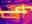Hotspot: (15, 5, 31, 11), (0, 10, 26, 13)
